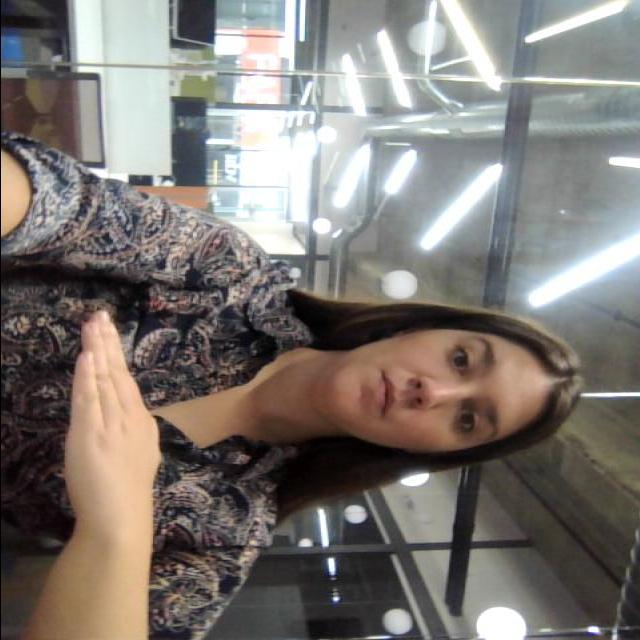Paper: (57, 306, 163, 531)
